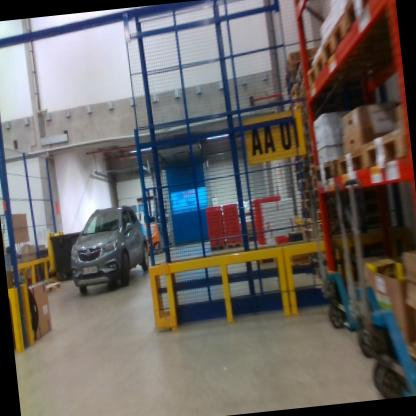pallet: (317, 11, 398, 67), (303, 41, 387, 82), (273, 34, 329, 78), (361, 117, 404, 171), (330, 141, 370, 197), (250, 242, 296, 269), (338, 0, 392, 23), (306, 159, 343, 191), (316, 216, 352, 237), (313, 196, 353, 212), (278, 62, 300, 87), (40, 278, 65, 299), (237, 228, 264, 247), (294, 65, 309, 93), (315, 209, 350, 220), (206, 239, 226, 256), (287, 94, 304, 114), (289, 146, 310, 160), (293, 158, 311, 174), (285, 82, 300, 101), (296, 216, 316, 230), (226, 239, 245, 253), (298, 193, 312, 209), (303, 226, 317, 241), (298, 177, 311, 193), (301, 115, 311, 133), (310, 175, 321, 190), (299, 206, 315, 216), (307, 153, 316, 168), (312, 189, 323, 200), (307, 139, 314, 152), (302, 132, 313, 140), (295, 172, 309, 178), (299, 191, 312, 197), (310, 167, 317, 176)
pallet_truck: (342, 151, 416, 398), (330, 162, 393, 364), (299, 174, 357, 340)
small_load_carrier: (127, 175, 174, 259)
